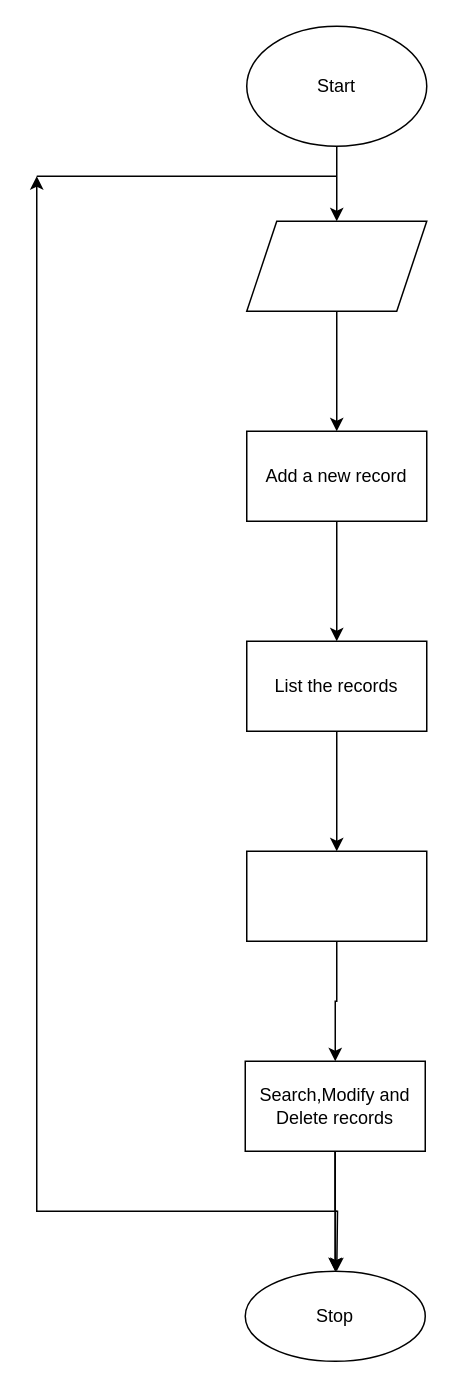
Some shapes in this 453 by 1388 pixel diagram are drawn without their labels. The box of each missing label's shape, as (x1, y1, x2, y2) in pixels:
Payment of user: (245, 850, 427, 941)
Select the option: (245, 220, 427, 311)
